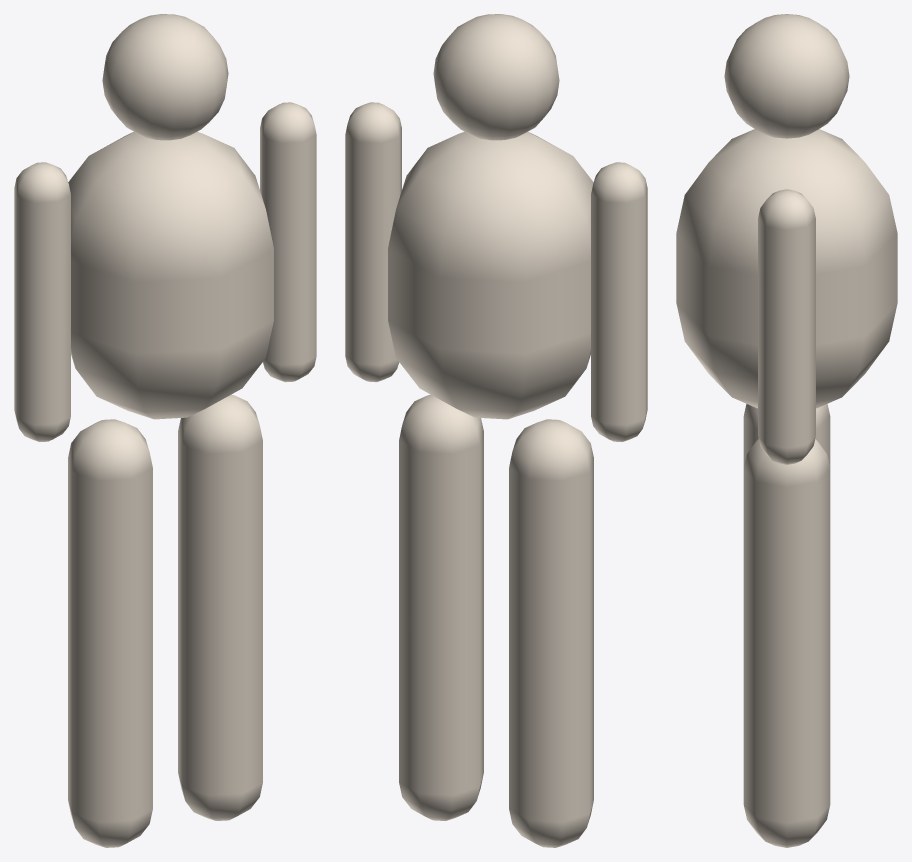
The model's file is men.glb.
3 renders of one model, left to right at view 1: azimuth 30°, elevation 25°; view 2: azimuth 150°, elevation 25°; view 3: azimuth 270°, elevation 25°, orthographic.
Parts seen in each view (by area): view 1: Torso, LeftLeg, RightLeg, LeftArm, RightArm, Head; view 2: Torso, LeftLeg, RightLeg, LeftArm, RightArm, Head; view 3: Torso, RightLeg, RightArm, Head, LeftLeg.
Part boxes in pixels (x1=…): Torso: x1=68, y1=131, x2=273, y2=419; LeftLeg: x1=68, y1=419, x2=152, y2=847; RightLeg: x1=178, y1=394, x2=262, y2=820; LeftArm: x1=14, y1=162, x2=70, y2=441; RightArm: x1=260, y1=102, x2=316, y2=382; Head: x1=102, y1=14, x2=228, y2=140; Torso: x1=388, y1=131, x2=593, y2=419; LeftLeg: x1=509, y1=419, x2=593, y2=847; RightLeg: x1=399, y1=394, x2=483, y2=820; LeftArm: x1=591, y1=162, x2=647, y2=441; RightArm: x1=345, y1=102, x2=401, y2=382; Head: x1=433, y1=14, x2=559, y2=140; Torso: x1=676, y1=129, x2=897, y2=408; RightLeg: x1=743, y1=439, x2=830, y2=847; RightArm: x1=758, y1=189, x2=815, y2=464; Head: x1=724, y1=14, x2=849, y2=138; LeftLeg: x1=743, y1=404, x2=830, y2=467.
Size of the model in its own units: 0.7 by 1.83 by 0.46.
